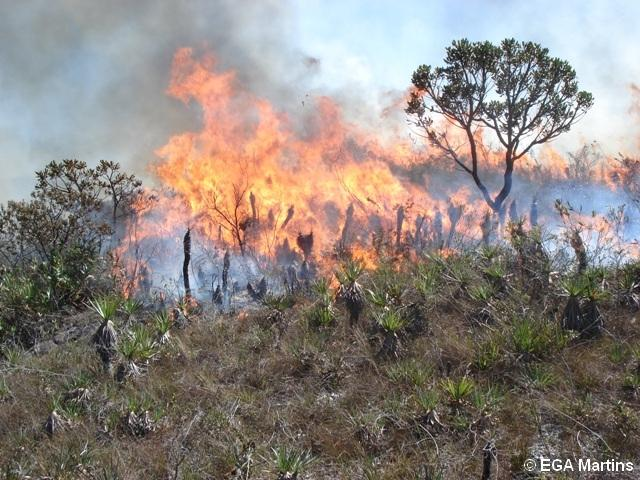fire: (193, 140, 394, 218)
